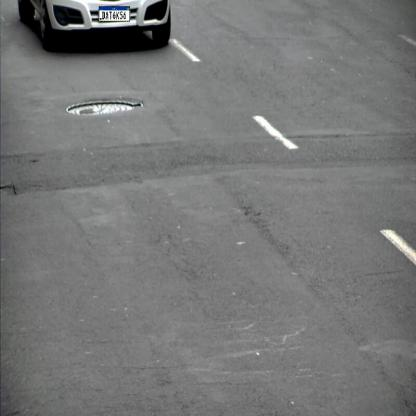PlacaM: (99, 6, 130, 22)
